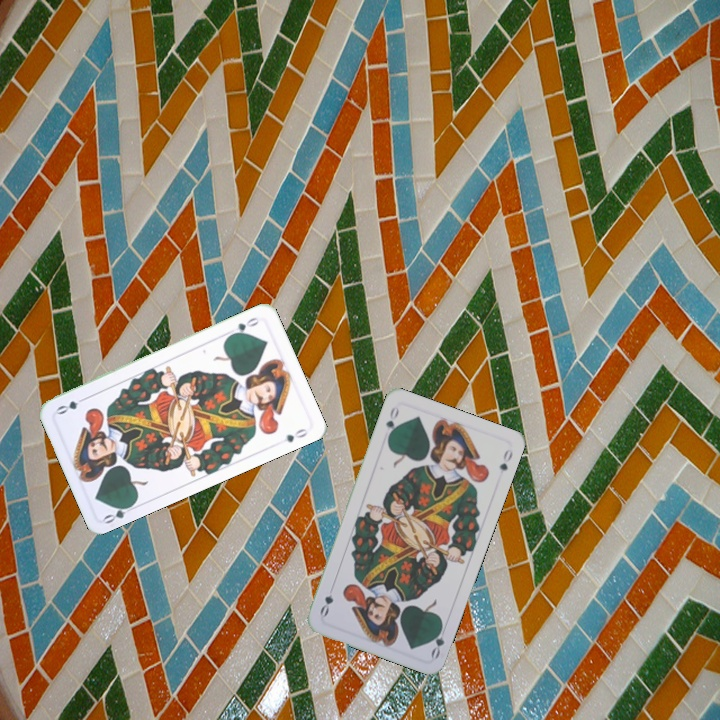GO: (100, 499, 139, 526), (225, 313, 263, 339), (427, 620, 447, 661), (382, 403, 402, 442)
